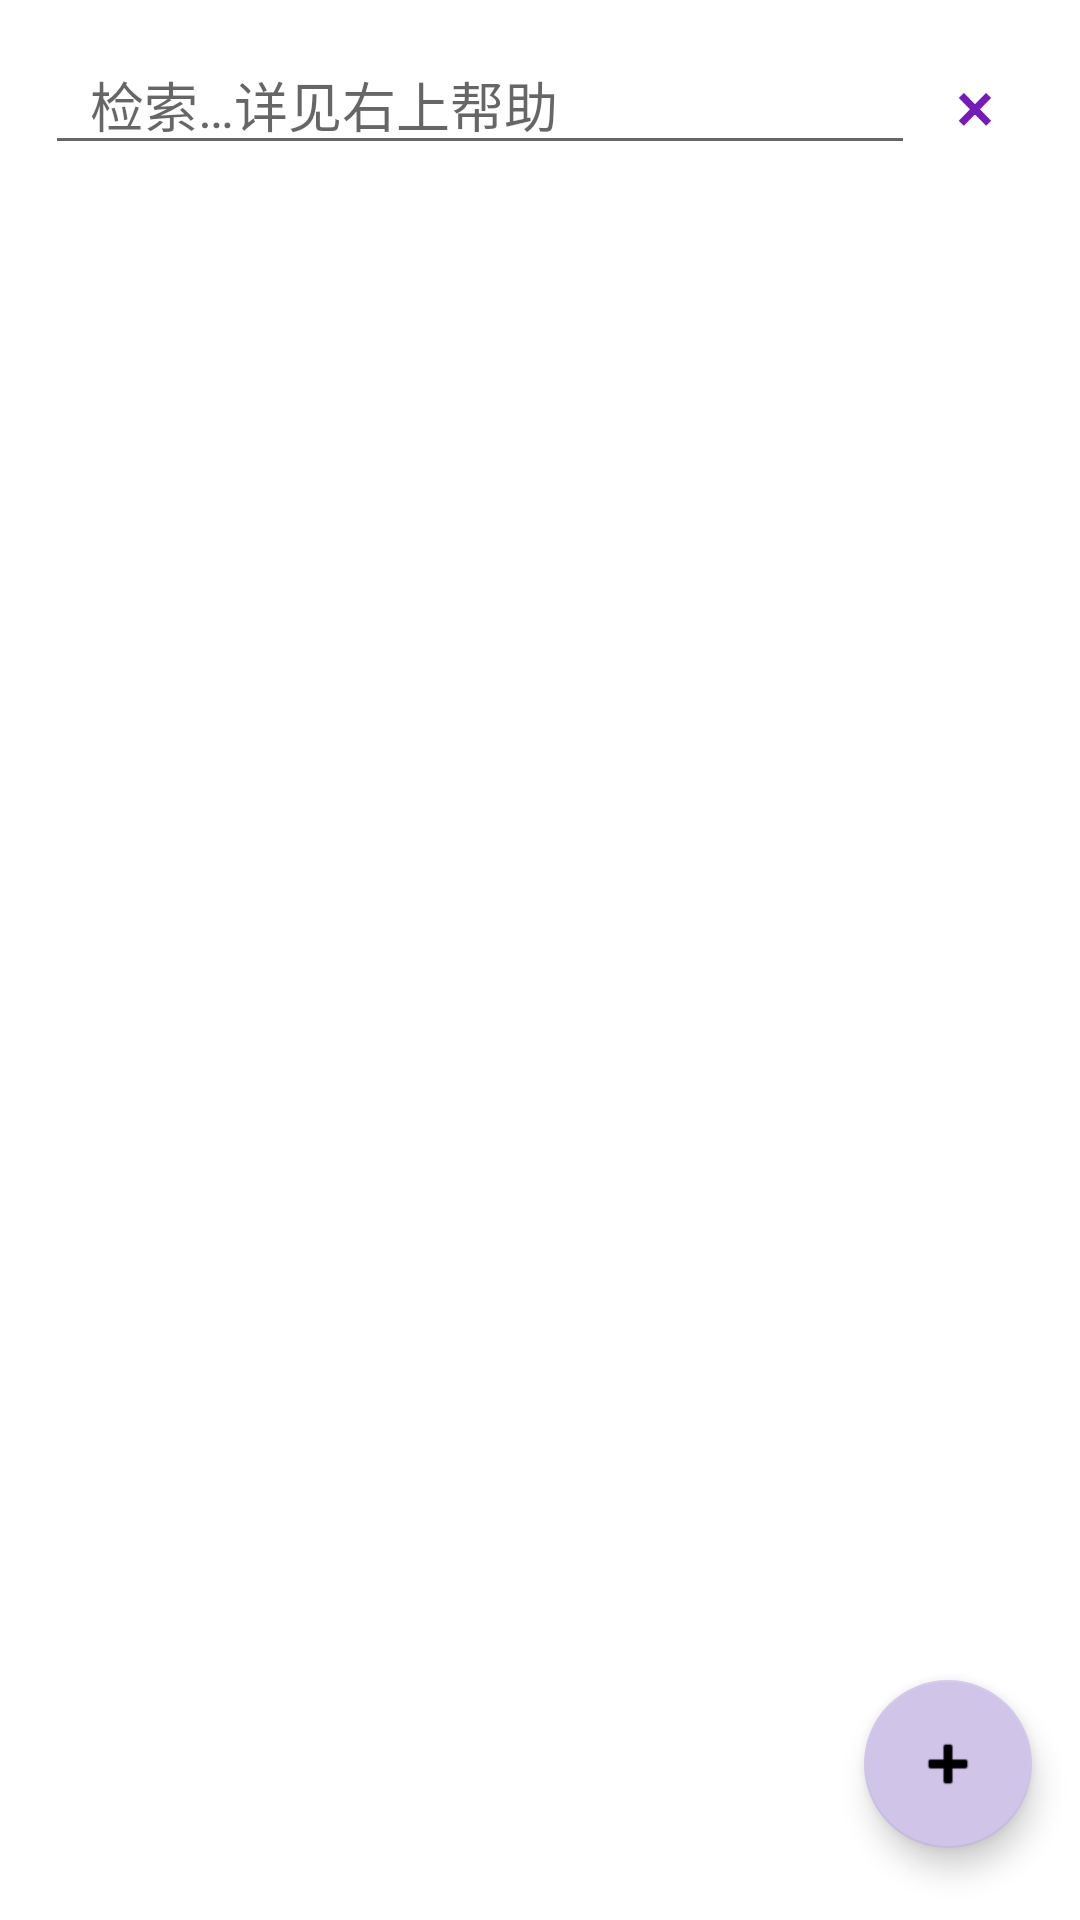

Icon click points for this 1080px x 1920px phone screenshot, format (x=x, y=y):
添加词条: (x=948, y=1764)
